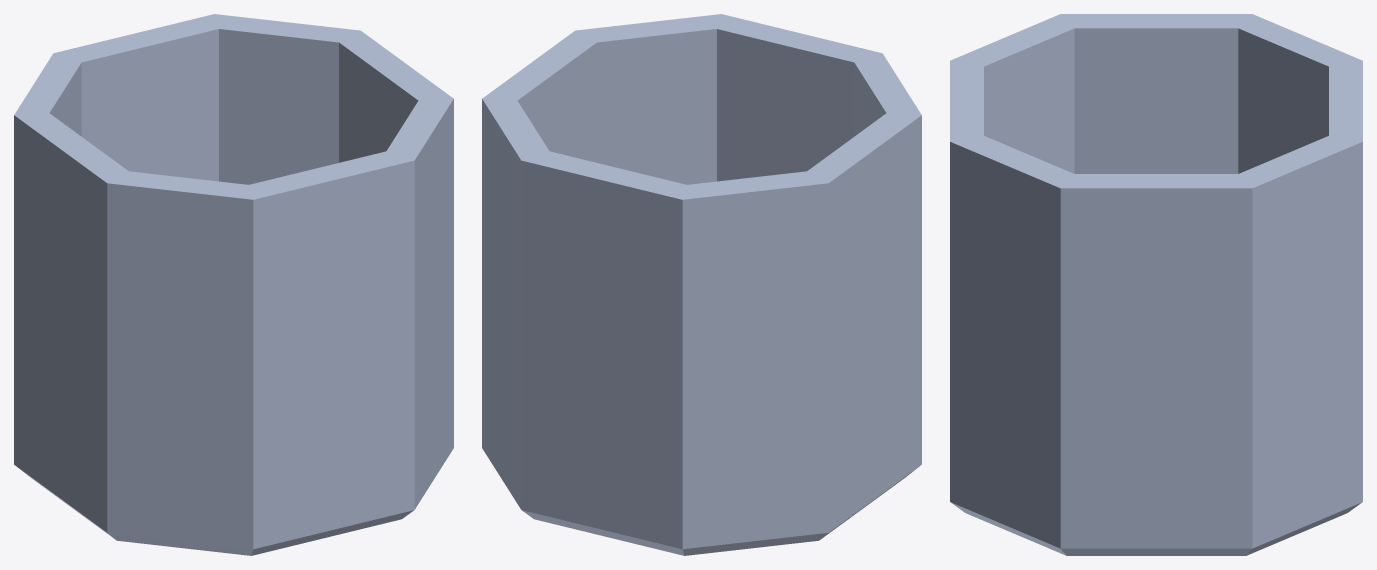
Rendered from Copo.fbx.
The picture shows the model from 3 angles, left to right: view 1: azimuth 30°, elevation 25°; view 2: azimuth 150°, elevation 25°; view 3: azimuth 270°, elevation 25°; orthographic projection. The views are drawn at different scales.
Visible parts, largest first — view 1: Copo; view 2: Copo; view 3: Copo.
Part boxes in pixels (left/top/right/bottom): Copo: left=14, top=14, right=453, bottom=555; Copo: left=482, top=14, right=921, bottom=555; Copo: left=950, top=14, right=1362, bottom=555.
Bounding box in the file's own units: 20 × 20 × 20.
